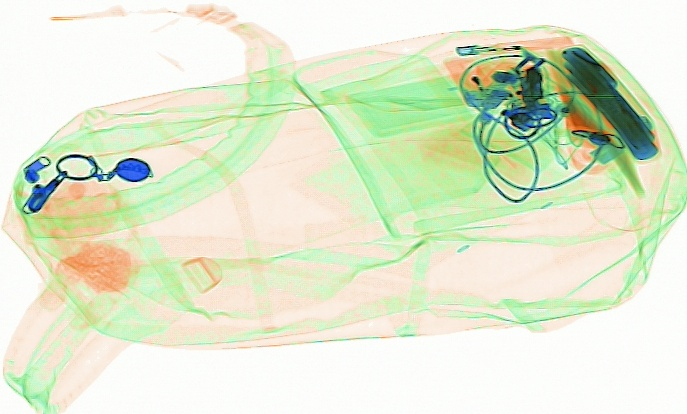lighter: (442, 53, 501, 108), (455, 34, 574, 56)
powerbank: (557, 40, 662, 164)
